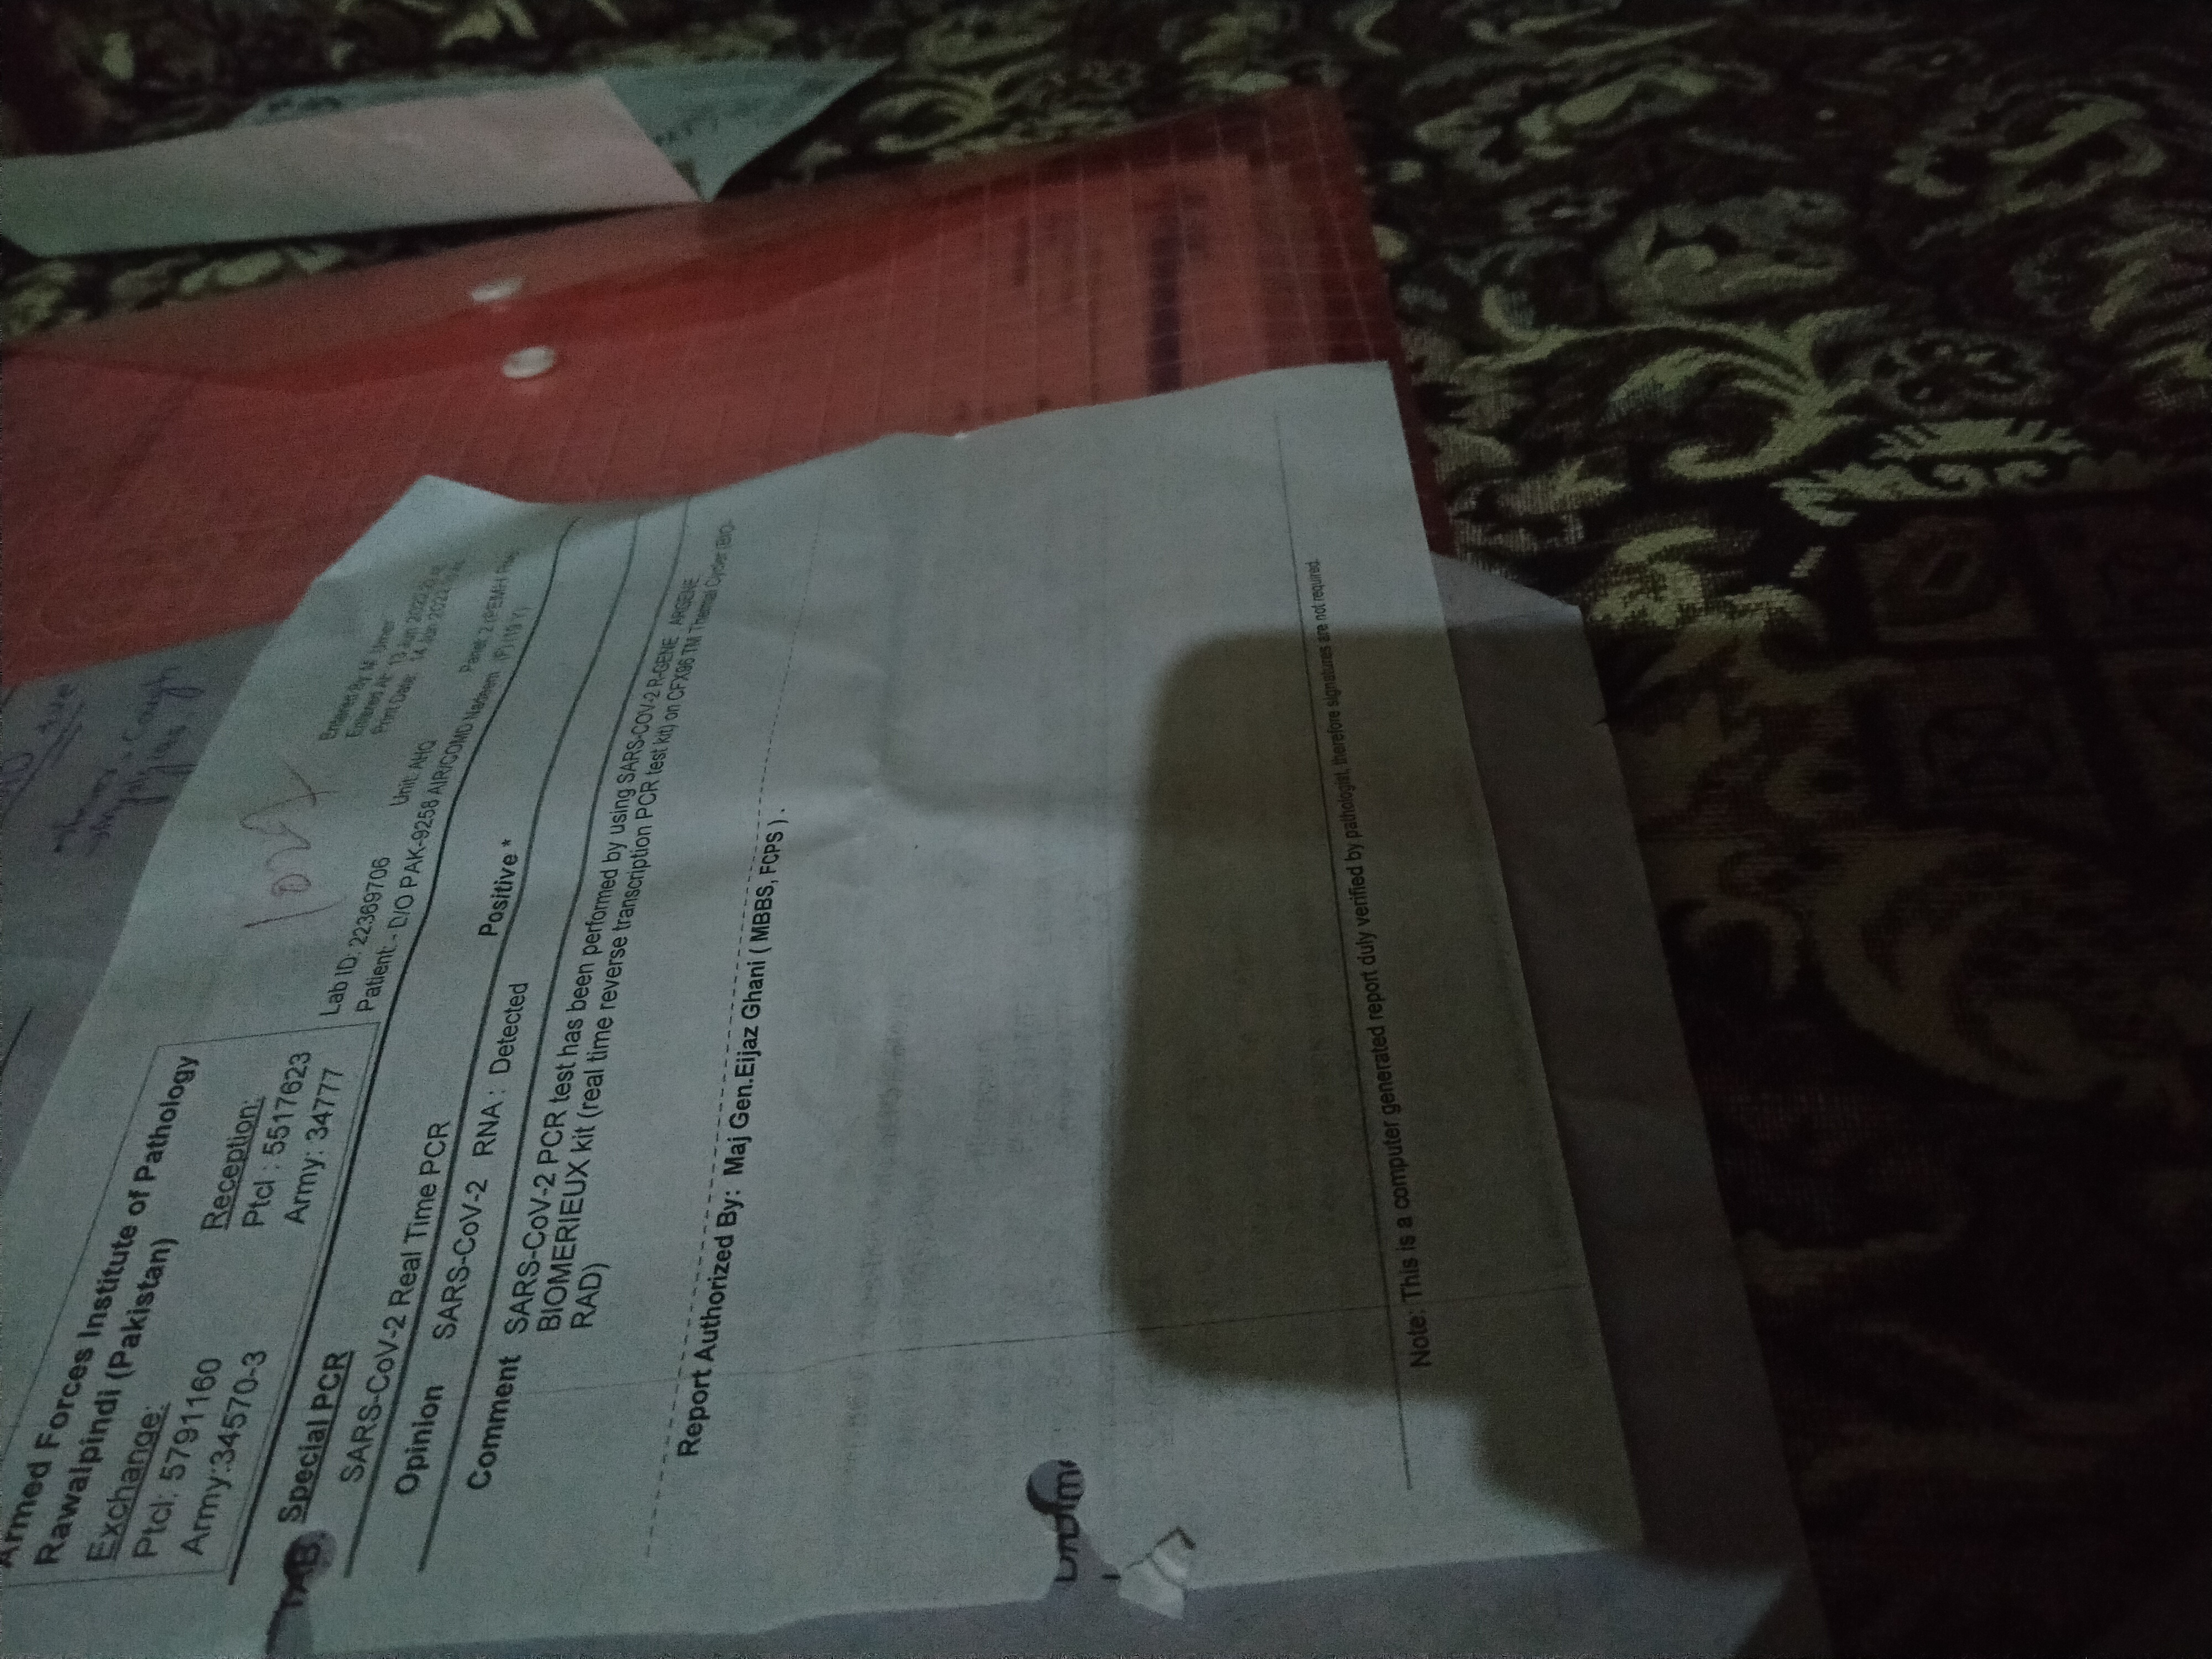report: (266, 509, 716, 1567)
